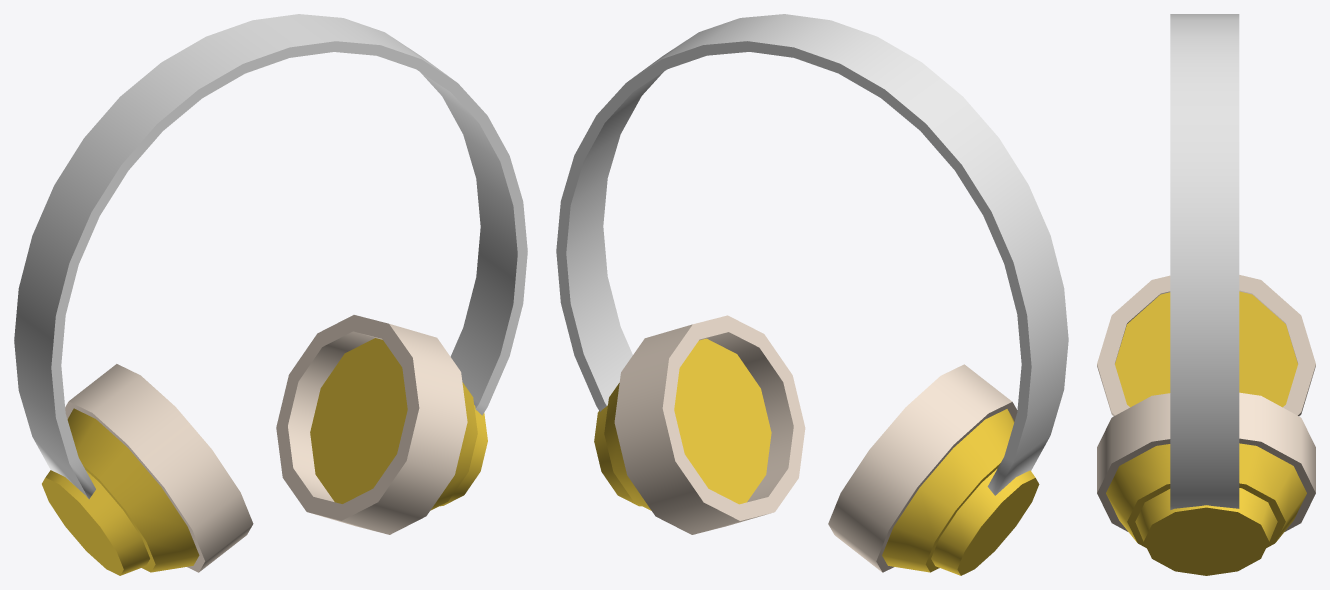
File: FoneOuvido4.fbx
3 views of the same model, side by side, from view 1: azimuth 30°, elevation 25°; view 2: azimuth 150°, elevation 25°; view 3: azimuth 270°, elevation 25° (orthographic). The views are drawn at different scales.
Visible parts, largest first — view 1: FoneOuvido; view 2: FoneOuvido; view 3: FoneOuvido.
Part boxes in pixels (x1,y1,x2,y2): FoneOuvido: (14,14,527,575); FoneOuvido: (556,14,1068,575); FoneOuvido: (1097,14,1315,575).
Bounding box in the file's own units: 44.35 × 45.67 × 18.98.
Materials: 1 (1 with a texture image).
